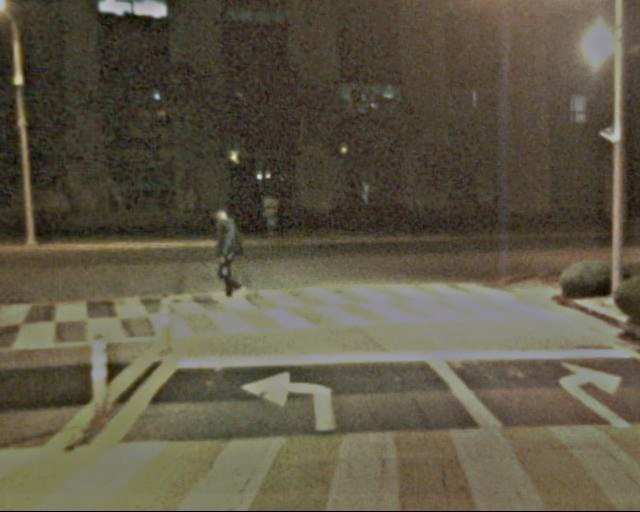person: (205, 201, 249, 309)
